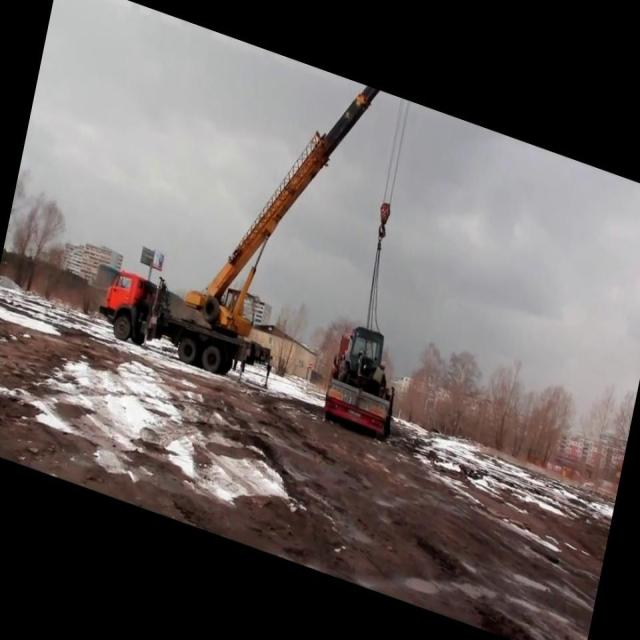crane: (93, 10, 413, 422)
